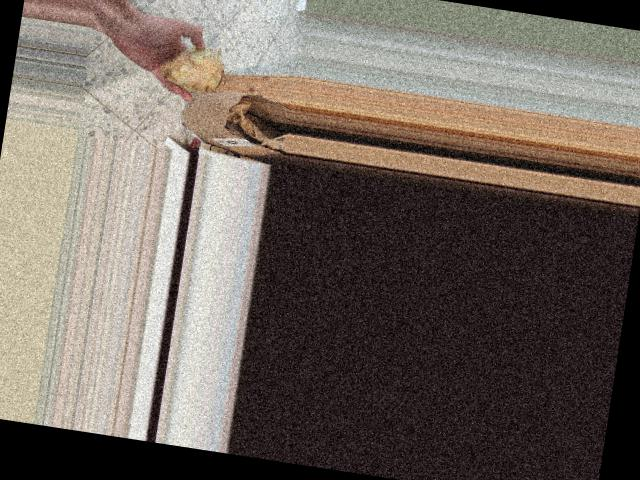onion: (157, 39, 232, 98)
